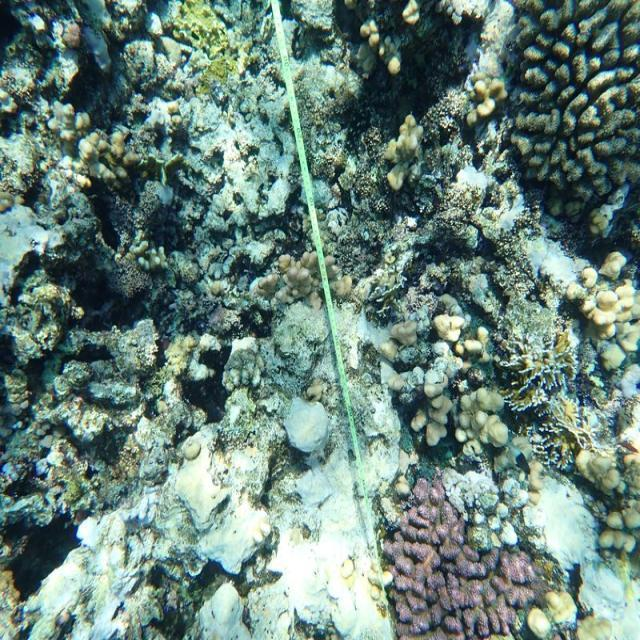Bleached Coral: (521, 463, 640, 633), (182, 83, 292, 247), (441, 450, 520, 566)
Healthy Coral: (520, 6, 640, 231), (393, 518, 529, 638)
